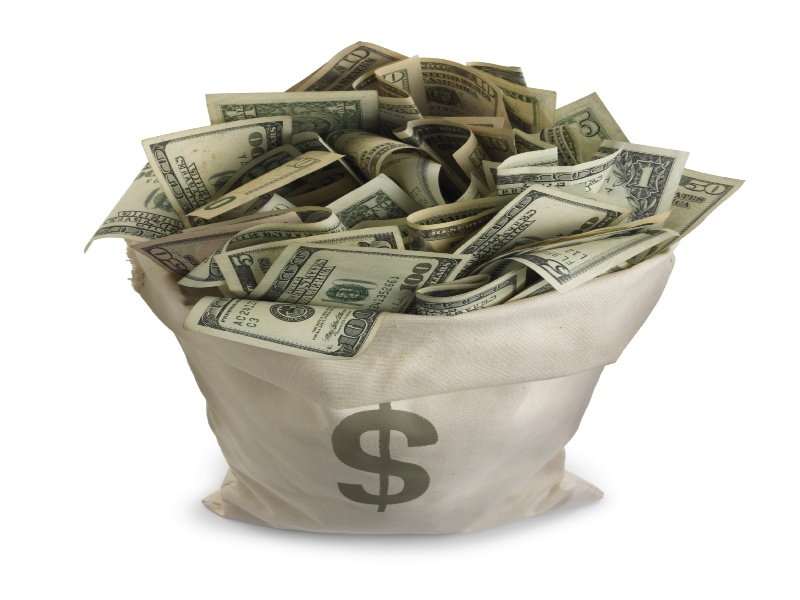cash: (86, 41, 748, 355)
